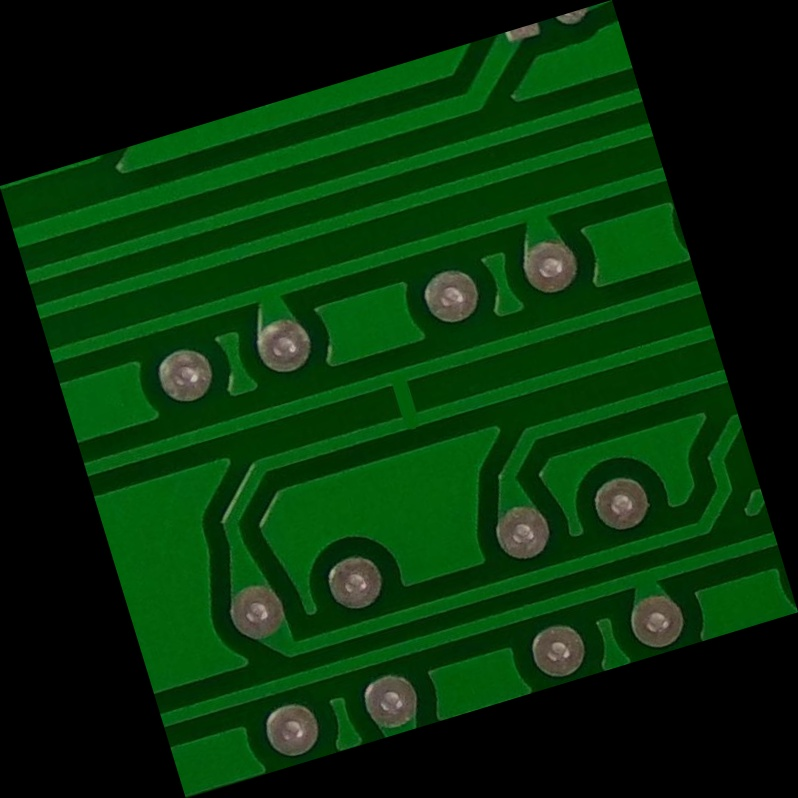short: (365, 354, 434, 444)
